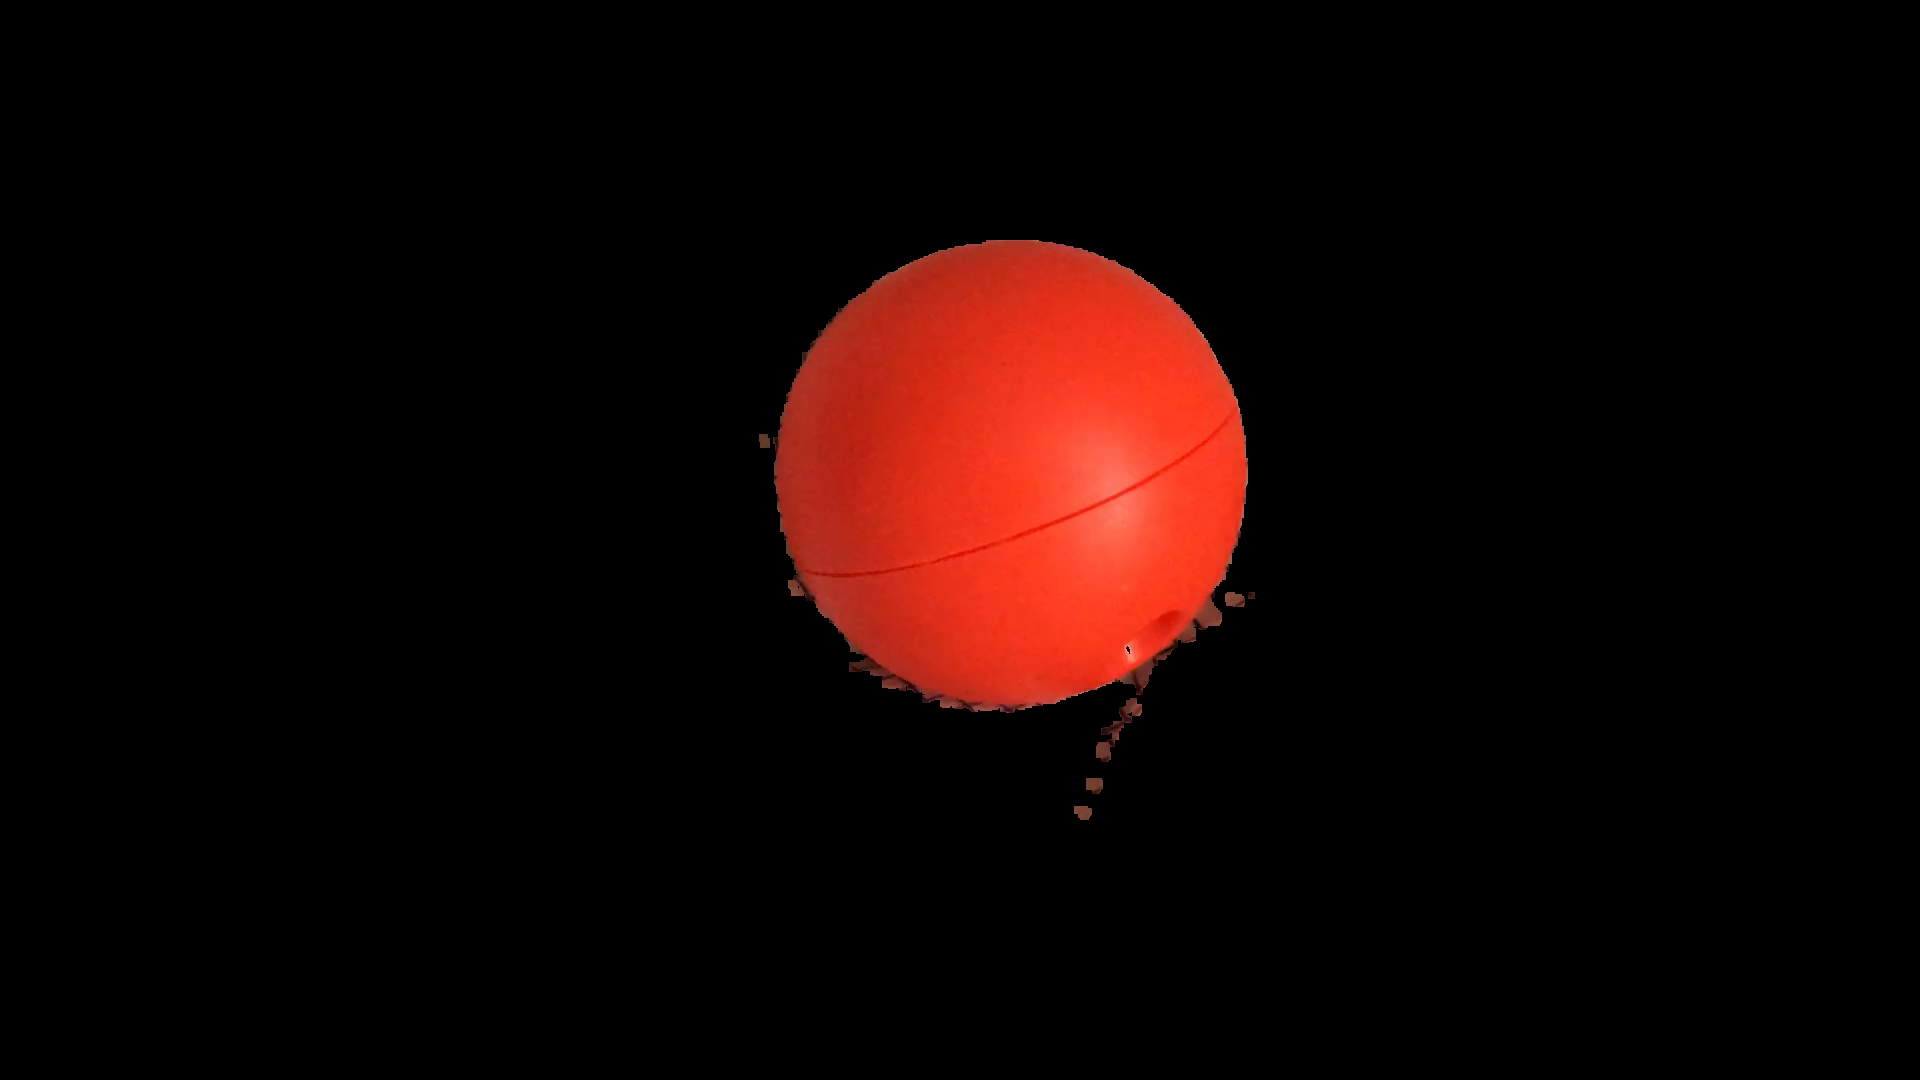Ball: (769, 239, 1250, 703)
